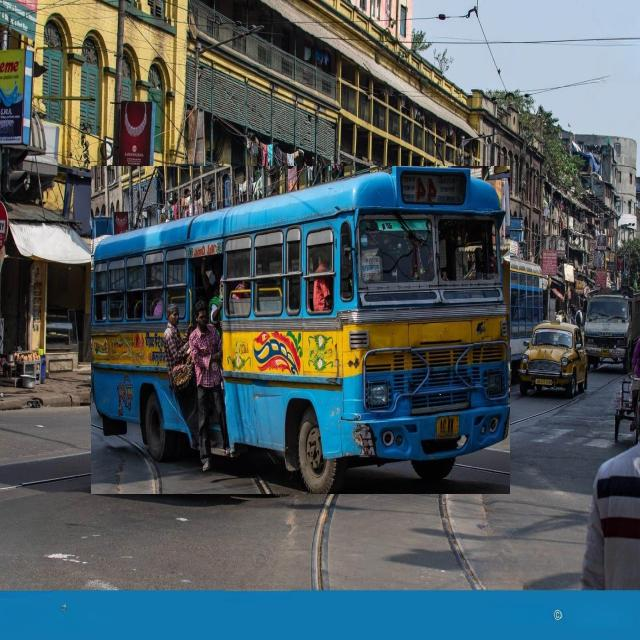bus: (91, 166, 510, 494)
car: (519, 320, 588, 398)
truck: (584, 289, 640, 373)
